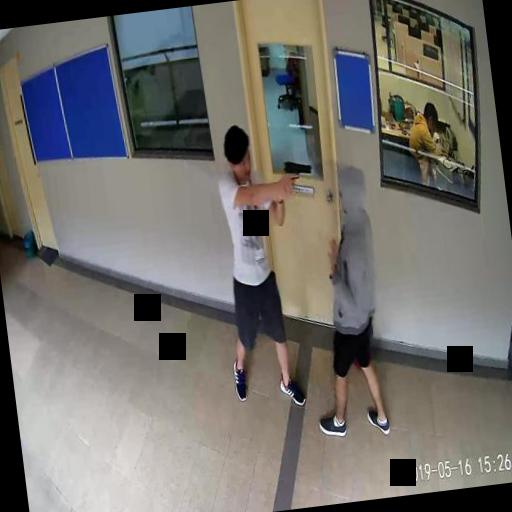Handgun: (282, 156, 312, 194)
